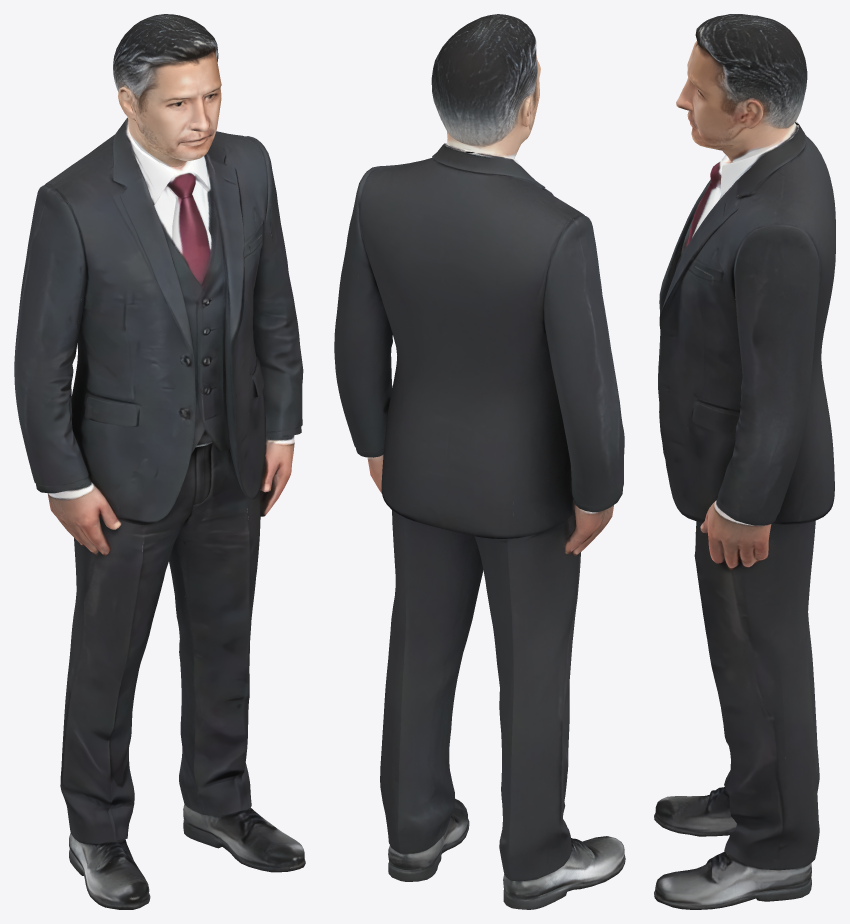
Rendered from abogado1_hombre.glb.
The picture shows the model from 3 angles, left to right: view 1: azimuth 30°, elevation 25°; view 2: azimuth 150°, elevation 25°; view 3: azimuth 270°, elevation 25°; orthographic projection.
Parts seen in each view (by area): view 1: model; view 2: model; view 3: model.
Part boxes in pixels (x1,y1,x2,y2): model: (14, 14, 305, 909); model: (334, 14, 625, 909); model: (654, 14, 835, 909).
Size of the model in its own units: 0.3393 by 1 by 0.1955.
Materials: 1 (1 with a texture image).
